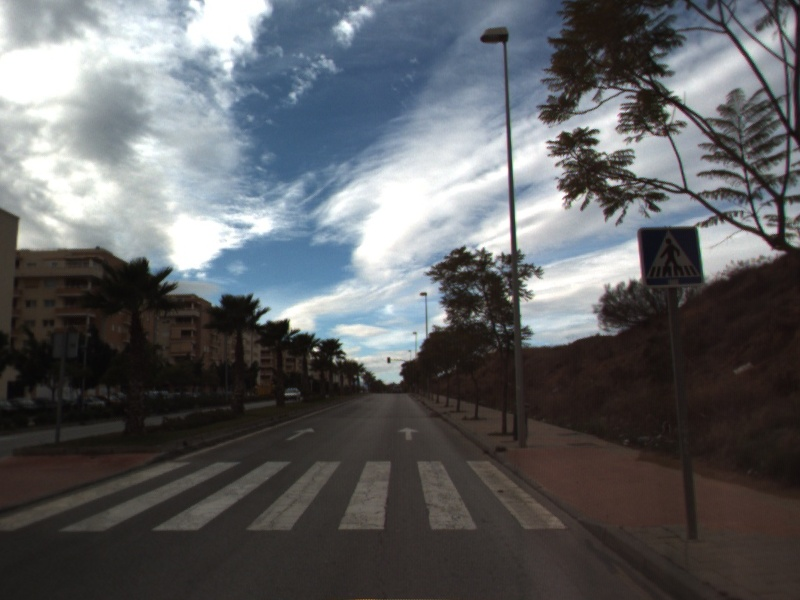STRAIGHT: (284, 425, 316, 442), (396, 425, 421, 442)
